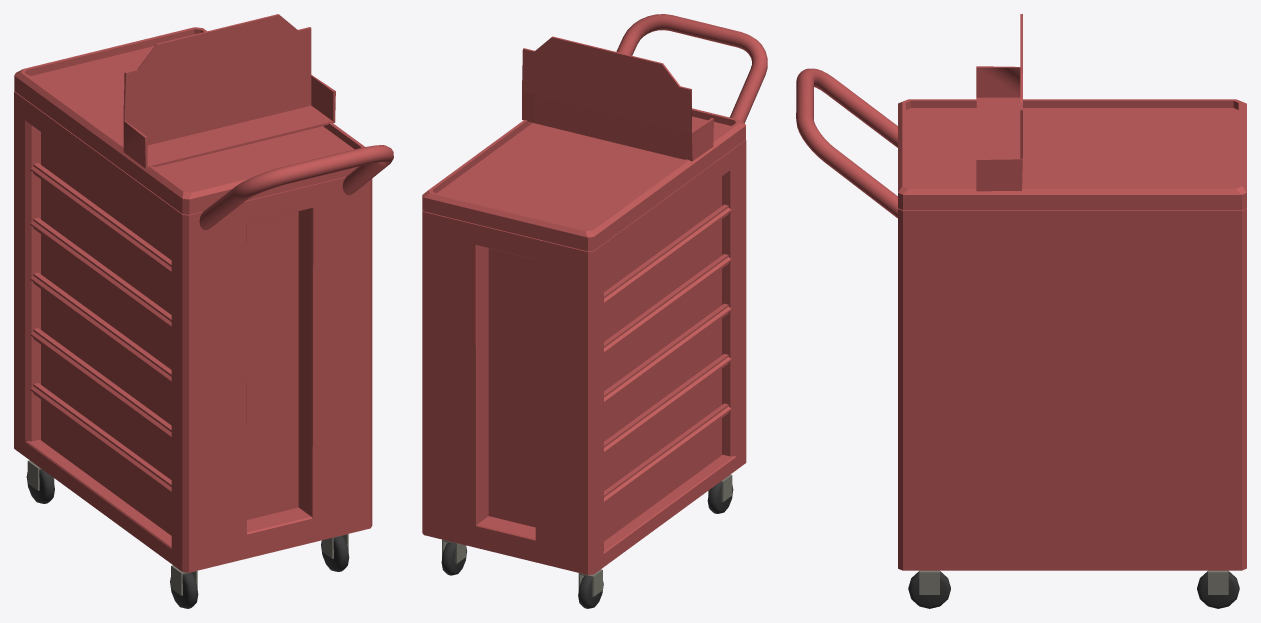
The picture shows the model from 3 angles, left to right: view 1: azimuth 30°, elevation 25°; view 2: azimuth 150°, elevation 25°; view 3: azimuth 270°, elevation 25°; orthographic projection. The views are drawn at different scales.
Parts seen in each view (by area): view 1: Box001.005; view 2: Box001.005; view 3: Box001.005.
Part boxes in pixels (bbox=[...]): Box001.005: bbox=[14, 14, 393, 608]; Box001.005: bbox=[422, 14, 767, 608]; Box001.005: bbox=[796, 14, 1246, 608].
Bounding box in the file's own units: 32.12 × 84.43 × 65.21.
